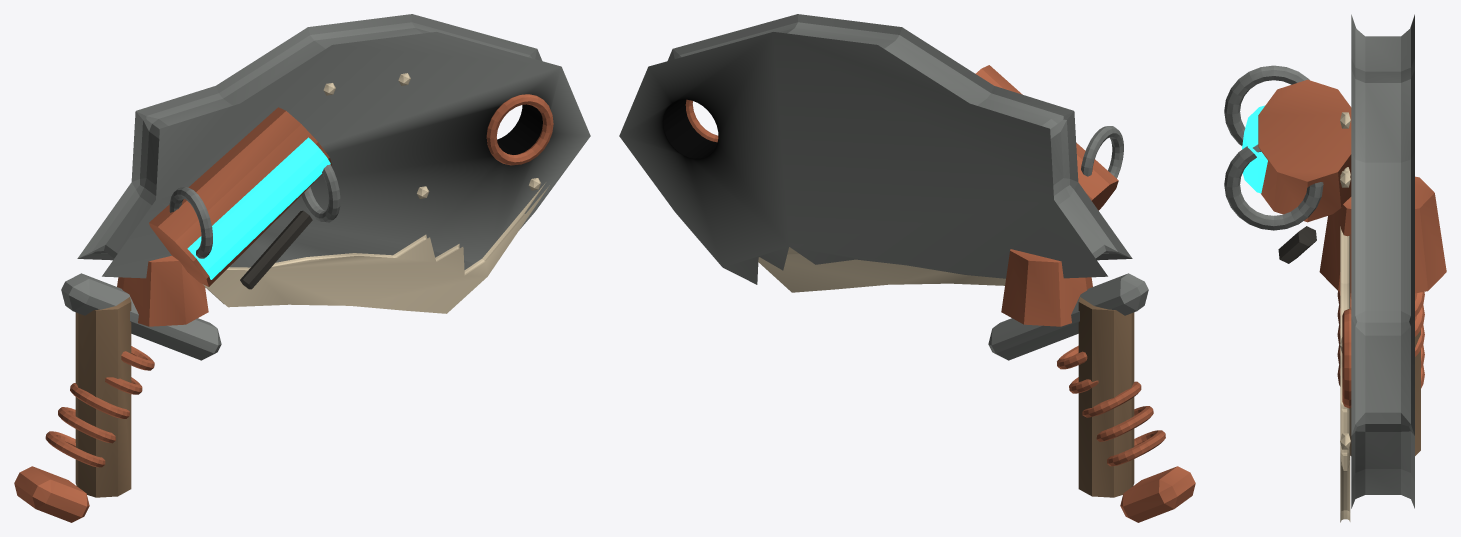
The model's file is ash-cleaver.glb.
3 views of the same model, side by side, from view 1: azimuth 30°, elevation 25°; view 2: azimuth 150°, elevation 25°; view 3: azimuth 270°, elevation 25° (orthographic). The views are drawn at different scales.
Parts seen in each view (by area): view 1: Cleaver | forged silhouette, Cleaver | pale cutting bevel, Cleaver | wrapped handle, Cleaver | reactor cage upper, Cleaver | cyan reactor, Cleaver | socket collar, Cleaver | cross guard, Cleaver | pommel, Cleaver | punched rim, Cleaver | reactor power cable, Cleaver | reactor clamp, Cleaver | reactor clamp.001 (+3 smaller); view 2: Cleaver | forged silhouette, Cleaver | wrapped handle, Cleaver | pale cutting bevel, Cleaver | socket collar, Cleaver | cross guard, Cleaver | pommel, Cleaver | reactor cage upper, Cleaver | reactor clamp, Cleaver | grip binding, Cleaver | grip binding.001, Cleaver | grip binding.002; view 3: Cleaver | forged silhouette, Cleaver | reactor cage upper, Cleaver | socket collar, Cleaver | reactor clamp.001, Cleaver | pale cutting bevel, Cleaver | reactor clamp, Cleaver | cyan reactor, Cleaver | punched rim, Cleaver | reactor power cable, Cleaver | wrapped handle.
Boxes of the visible parts, bbox=[...] form: Cleaver | forged silhouette: bbox=[77, 14, 590, 278]; Cleaver | pale cutting bevel: bbox=[203, 183, 549, 313]; Cleaver | wrapped handle: bbox=[75, 297, 131, 497]; Cleaver | reactor cage upper: bbox=[149, 107, 331, 286]; Cleaver | cyan reactor: bbox=[187, 137, 330, 279]; Cleaver | socket collar: bbox=[117, 255, 208, 326]; Cleaver | cross guard: bbox=[61, 273, 221, 360]; Cleaver | pommel: bbox=[14, 466, 89, 522]; Cleaver | punched rim: bbox=[486, 94, 553, 165]; Cleaver | reactor power cable: bbox=[240, 210, 312, 289]; Cleaver | reactor clamp: bbox=[169, 187, 212, 258]; Cleaver | reactor clamp.001: bbox=[301, 164, 340, 222]; Cleaver | forged silhouette: bbox=[619, 14, 1132, 284]; Cleaver | wrapped handle: bbox=[1078, 297, 1134, 497]; Cleaver | pale cutting bevel: bbox=[758, 247, 1005, 292]; Cleaver | socket collar: bbox=[1001, 249, 1092, 326]; Cleaver | cross guard: bbox=[988, 273, 1148, 360]; Cleaver | pommel: bbox=[1120, 466, 1195, 522]; Cleaver | reactor cage upper: bbox=[975, 65, 1118, 210]; Cleaver | reactor clamp: bbox=[1081, 126, 1123, 178]; Cleaver | grip binding: bbox=[1107, 430, 1165, 466]; Cleaver | grip binding.001: bbox=[1096, 406, 1153, 441]; Cleaver | grip binding.002: bbox=[1082, 381, 1141, 417]; Cleaver | forged silhouette: bbox=[1351, 14, 1414, 508]; Cleaver | reactor cage upper: bbox=[1258, 79, 1351, 222]; Cleaver | socket collar: bbox=[1319, 176, 1446, 293]; Cleaver | reactor clamp.001: bbox=[1224, 144, 1323, 230]; Cleaver | pale cutting bevel: bbox=[1340, 226, 1350, 522]; Cleaver | reactor clamp: bbox=[1224, 65, 1309, 145]; Cleaver | cyan reactor: bbox=[1242, 105, 1267, 193]; Cleaver | punched rim: bbox=[1342, 309, 1351, 408]; Cleaver | reactor power cable: bbox=[1278, 226, 1316, 263]; Cleaver | wrapped handle: bbox=[1350, 329, 1420, 455].
Bounding box in the file's own units: 2.11 × 1.52 × 0.56.
